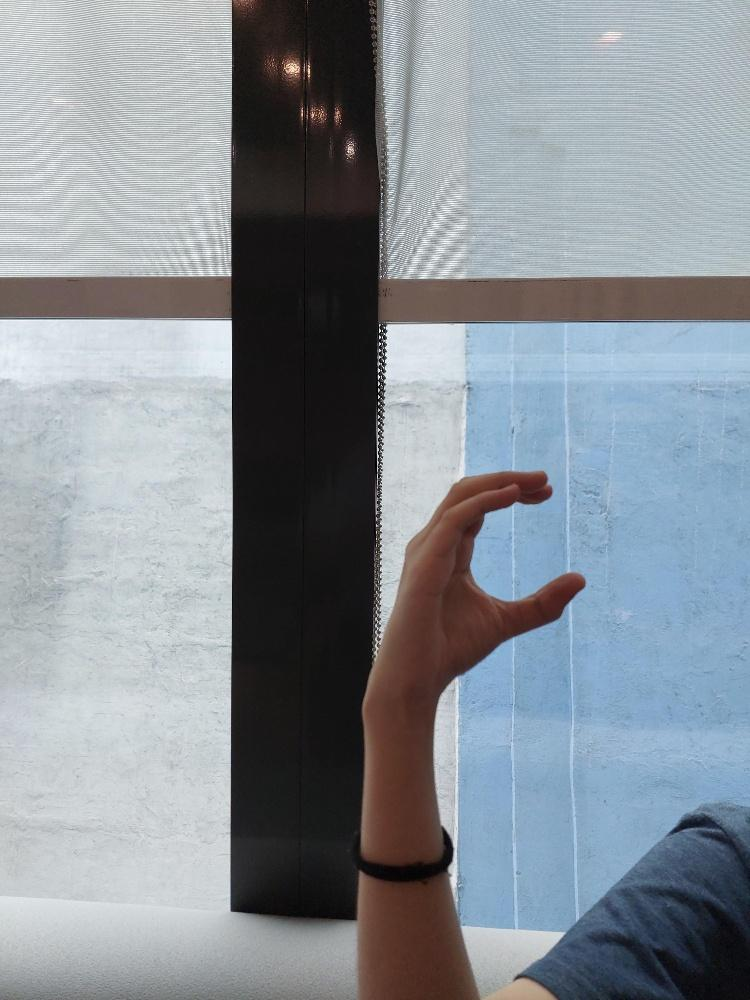c: (382, 467, 584, 690)
